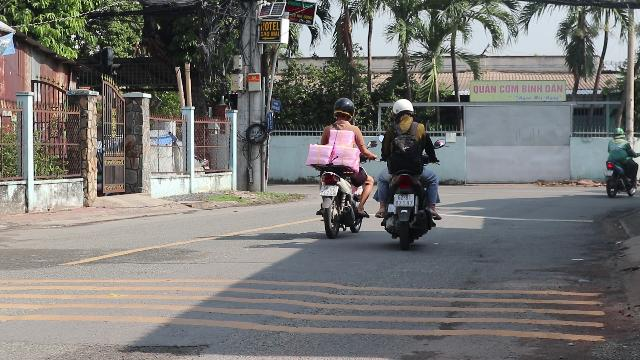helmet: (332, 97, 356, 121), (390, 99, 414, 122)
licenseplate: (394, 194, 414, 206), (319, 185, 337, 195)
motorcyclist: (373, 97, 442, 247), (306, 96, 374, 236)
